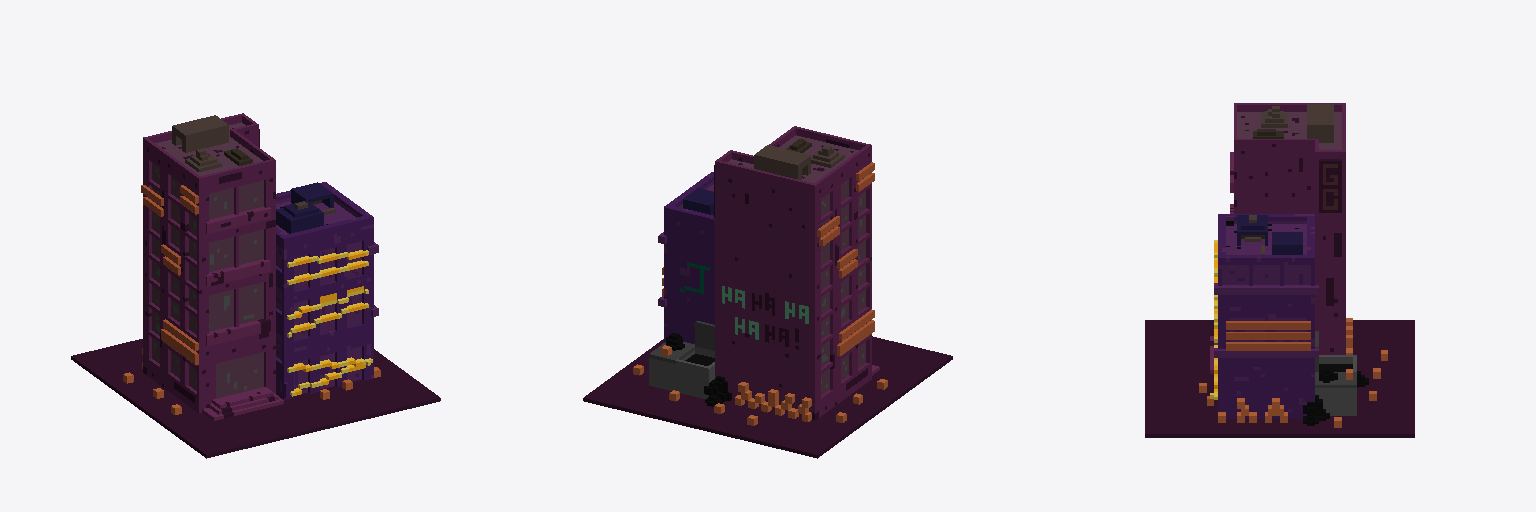
3 views of the same model, side by side, from view 1: azimuth 30°, elevation 25°; view 2: azimuth 150°, elevation 25°; view 3: azimuth 270°, elevation 25° (orthographic).
Visible parts, largest first — view 1: object 1; view 2: object 1; view 3: object 1.
Part boxes in pixels (x1,y1,x2,y2): object 1: (71,113,440,458); object 1: (583,126,952,458); object 1: (1145,103,1414,437).
Size of the model in its own units: 7 by 7.1 by 7.
1 materials, 1 textured.